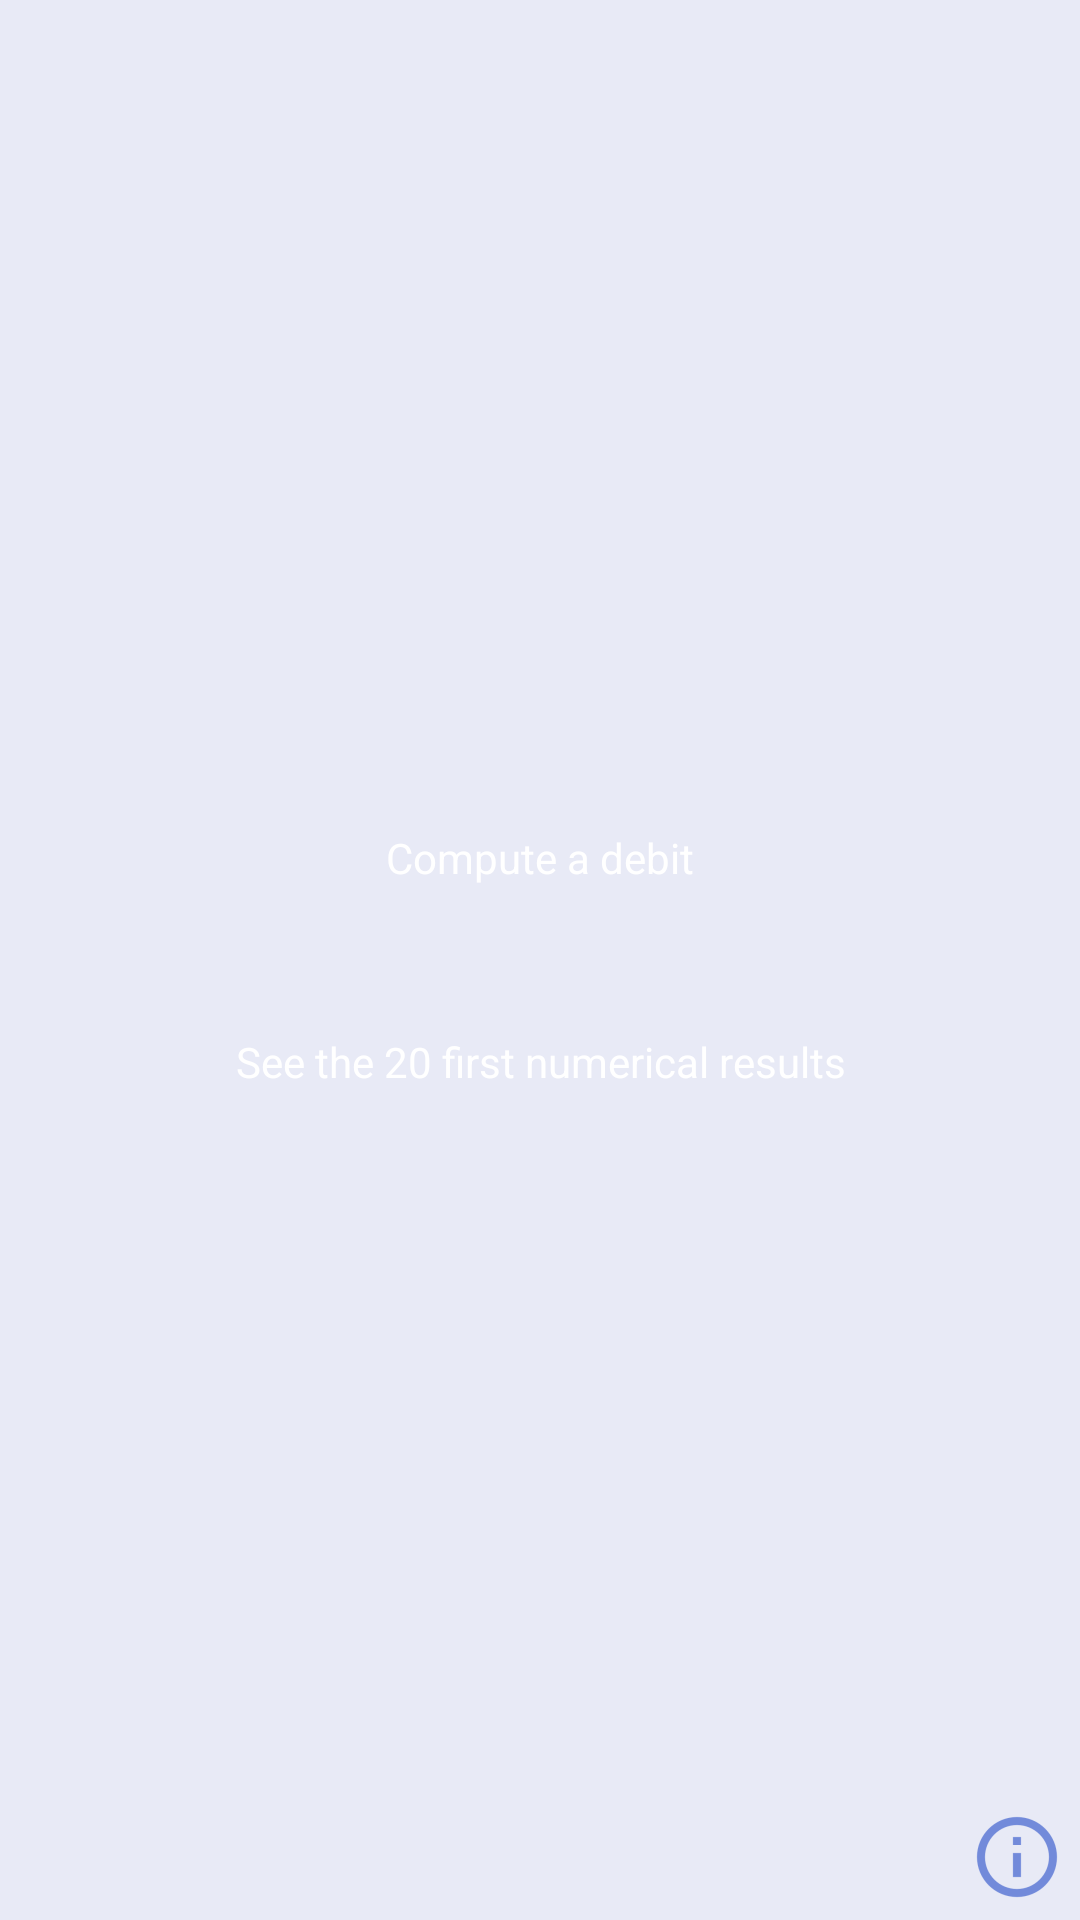

Where to tap for icons on this 1080x1920 app screen, as (x=x, y=y):
info: (x=1017, y=1857)
